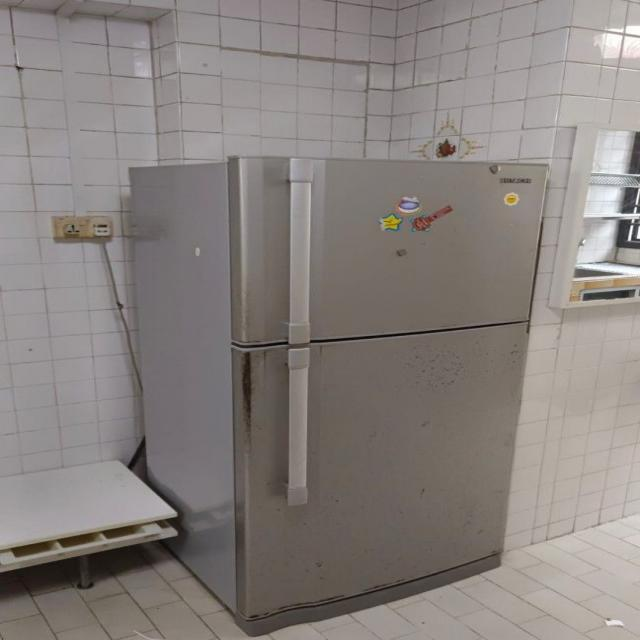refrigerator: (226, 152, 547, 634)
